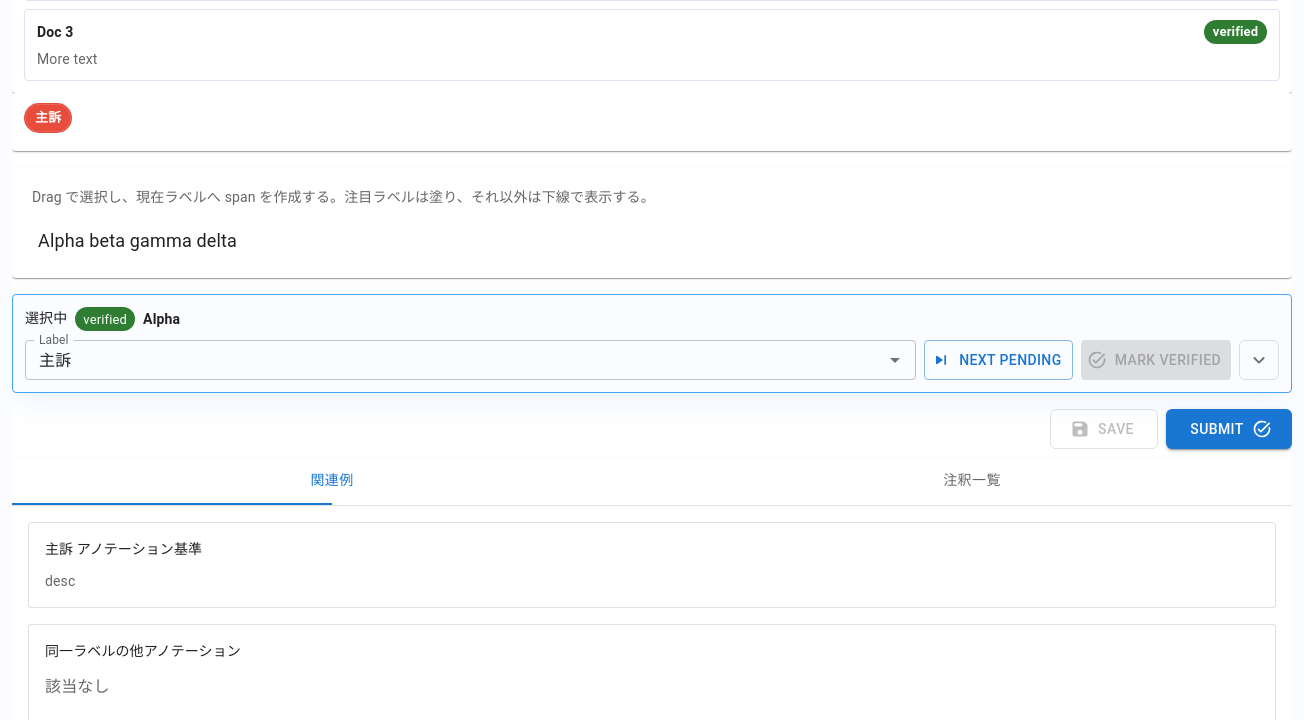
it: WorkspaceView › exposes selected annotation details as an accessible disclosure
(page scrolled)
Step 1. Click the button named "Annotation details" → [1259, 360], box [1239, 340, 1279, 380]
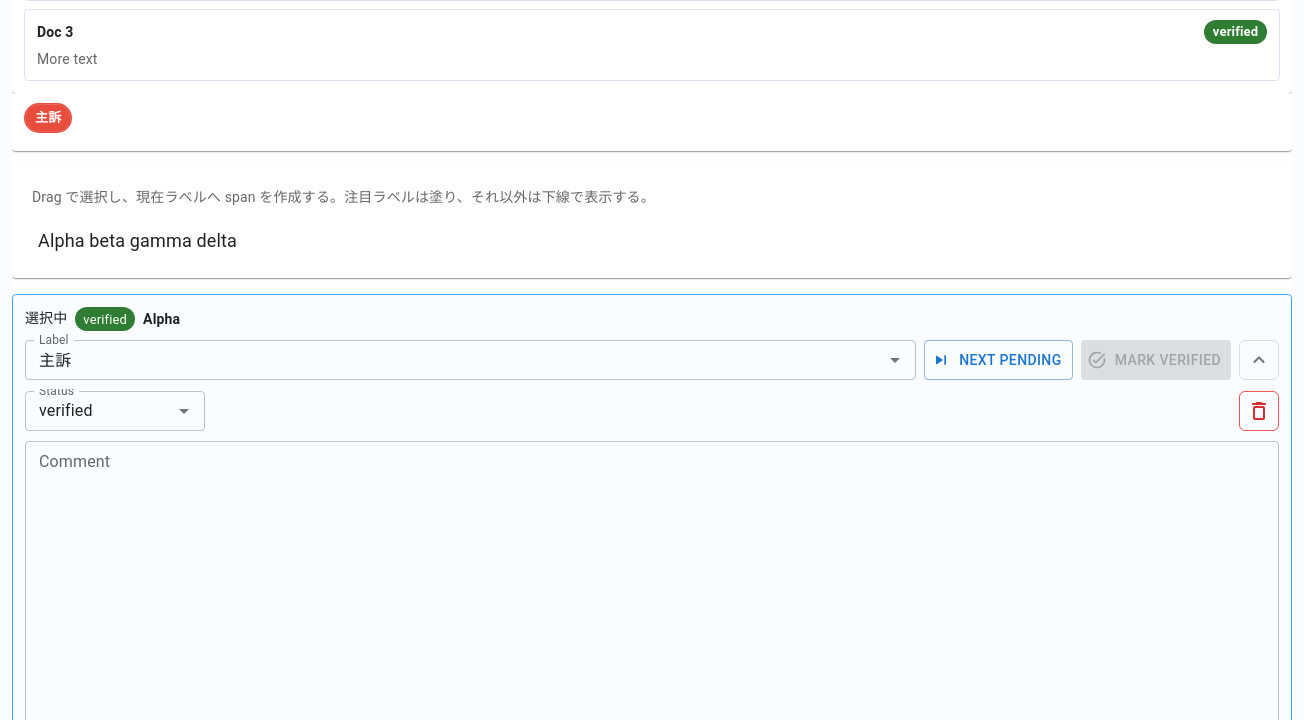
expect the button named "Annotation details" is expanded: met, box [1239, 340, 1279, 380]
